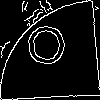O: (24, 25, 69, 74)
